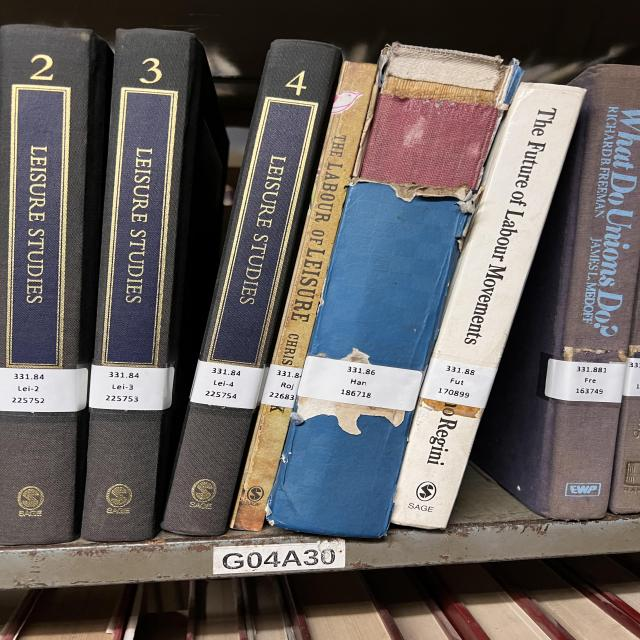Book: (267, 44, 518, 538), (162, 40, 342, 536), (392, 84, 585, 529), (473, 65, 640, 520), (230, 61, 378, 531), (82, 30, 205, 541), (0, 25, 112, 545), (608, 275, 640, 514)
Label: (297, 356, 423, 411), (420, 358, 497, 409), (88, 365, 175, 410), (0, 368, 88, 412), (190, 361, 265, 409), (545, 359, 625, 402), (260, 364, 302, 408)
